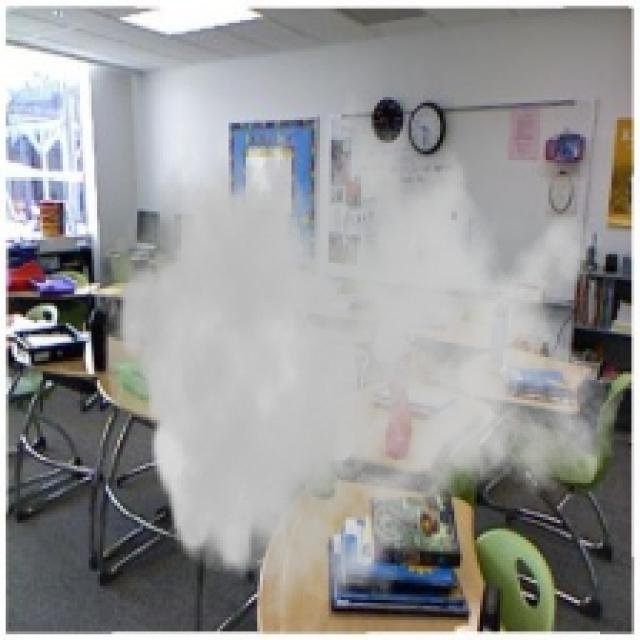smoke: (100, 63, 620, 628)
